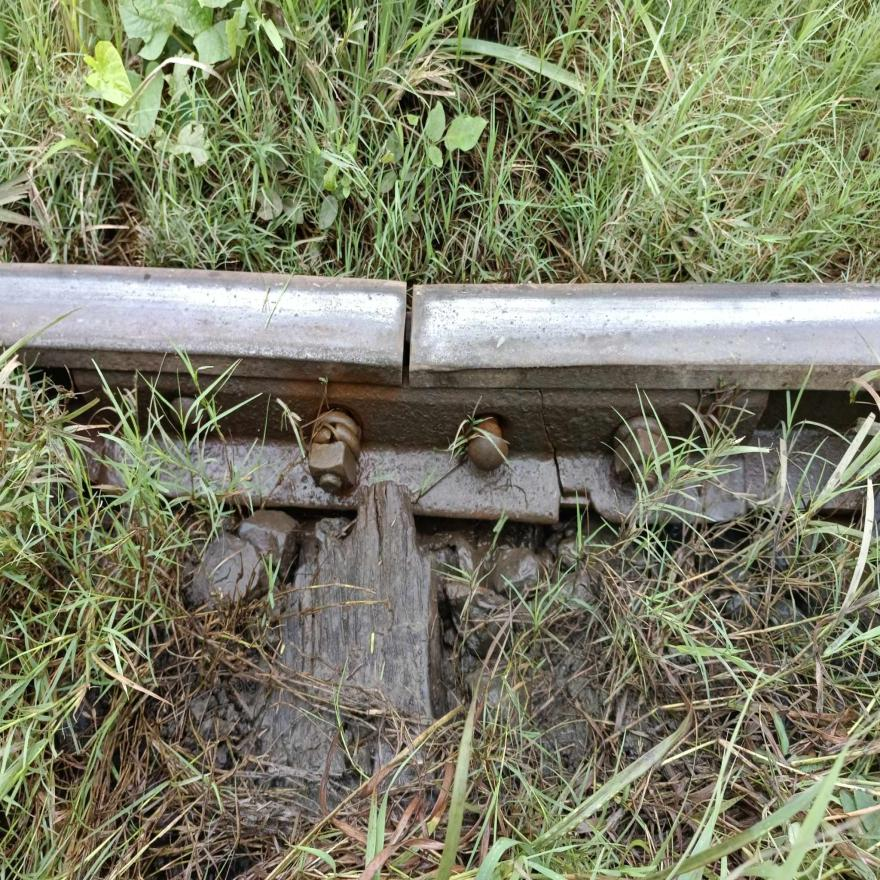railway-gap: (345, 244, 470, 411)
